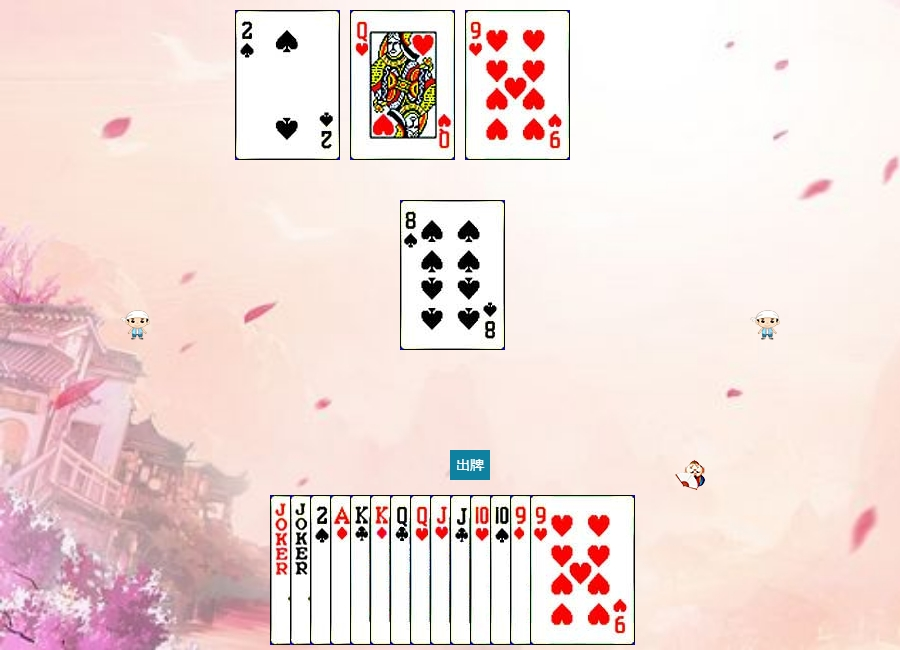10~3: (470, 495, 575, 645)
10~4: (490, 495, 595, 645)
11~2: (450, 495, 555, 645)
11~3: (430, 495, 535, 645)
12~2: (390, 495, 495, 645)
12~3: (350, 10, 455, 160), (410, 495, 515, 645)
13~1: (370, 495, 475, 645)
13~2: (350, 495, 455, 645)
14~1: (330, 495, 435, 645)
15~4: (235, 10, 340, 160), (310, 495, 415, 645)
17~3: (290, 495, 395, 645)
18~4: (270, 495, 375, 645)
8~4: (400, 200, 505, 350)
9~1: (510, 495, 615, 645)
9~3: (465, 10, 570, 160), (530, 495, 635, 645)
